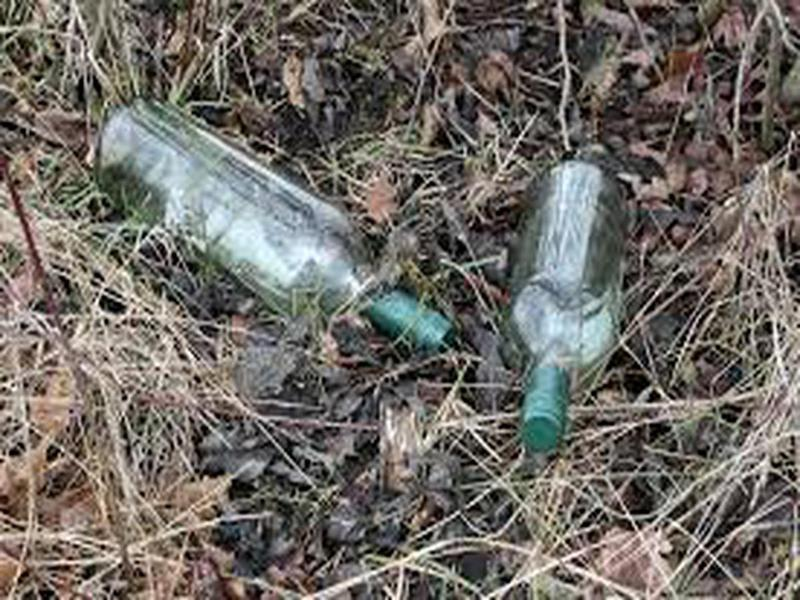bottle: (86, 100, 455, 356), (501, 154, 626, 444)
